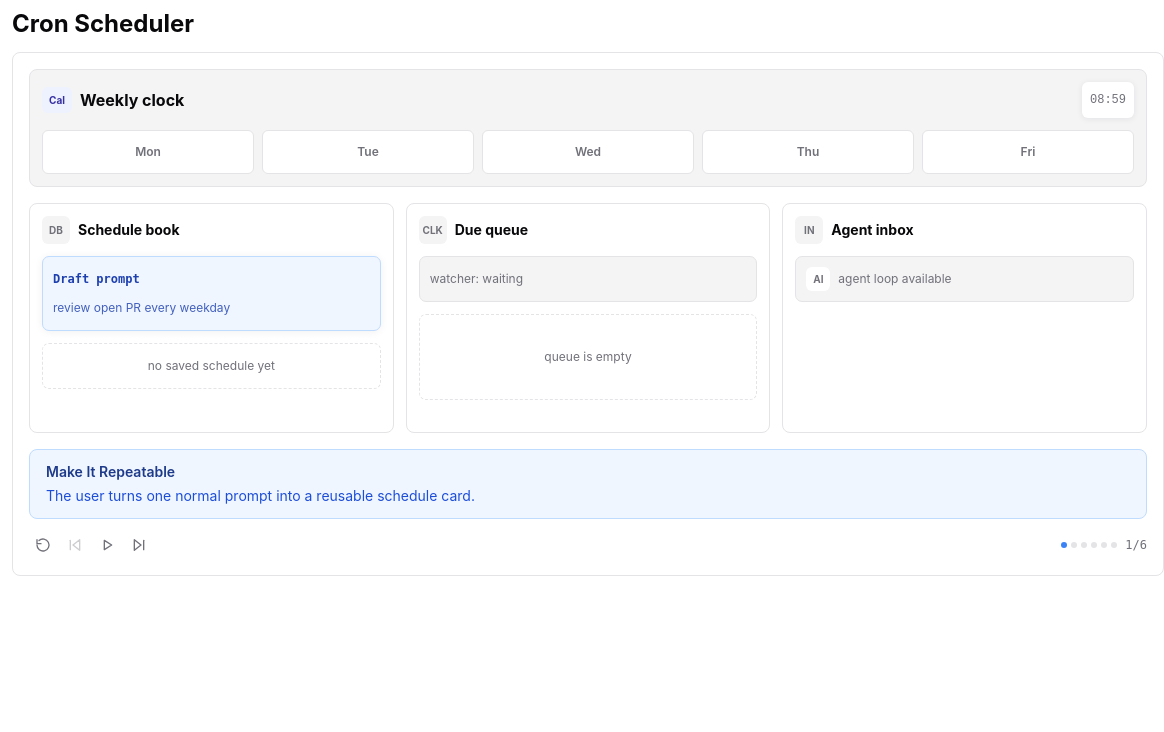
S14CronScheduler › renders the cron schedule flow from schedule book to drained queue
The width and height of the screenshot is (1164, 732).
Click the button titled "Next step": click(139, 545) [125, 531, 153, 559]
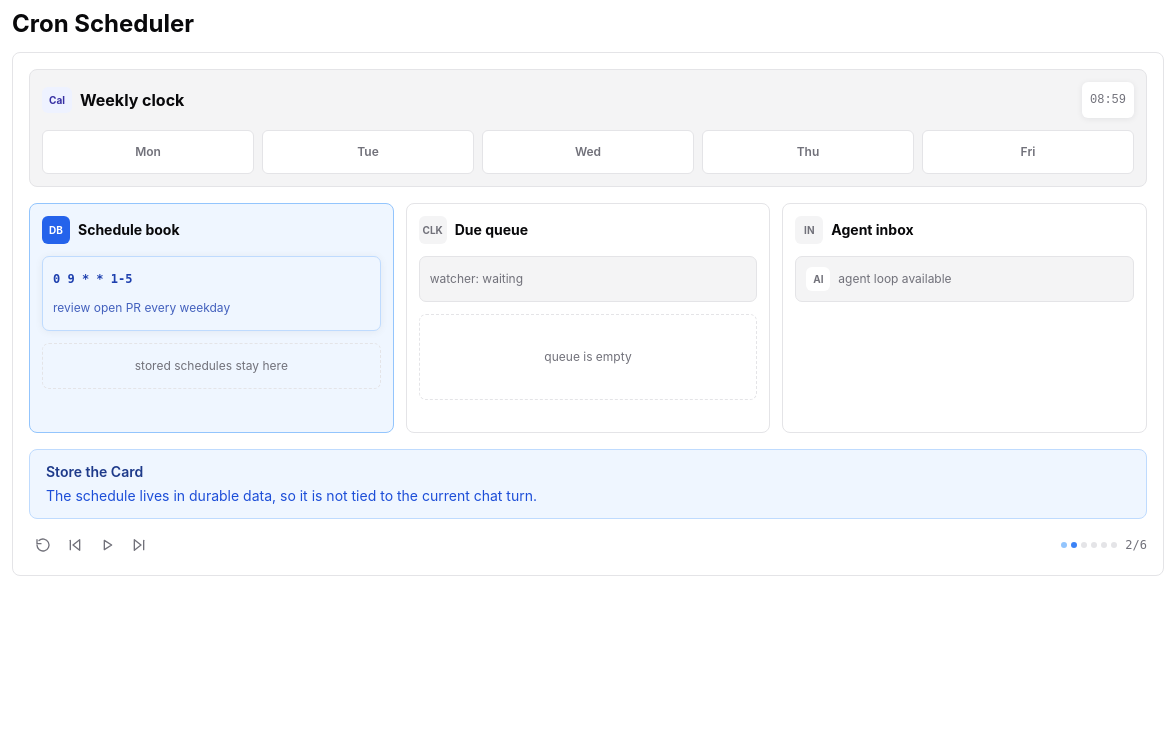
Expected: the text "Store the Card" is shown, [46, 463, 143, 480]
Expected: the text "0 9 * * 1-5" is shown, [53, 272, 132, 286]
Expected: the text "stored schedules stay here" is shown, [42, 343, 381, 389]
Click the button titled "Next step": click(139, 545) [125, 531, 153, 559]
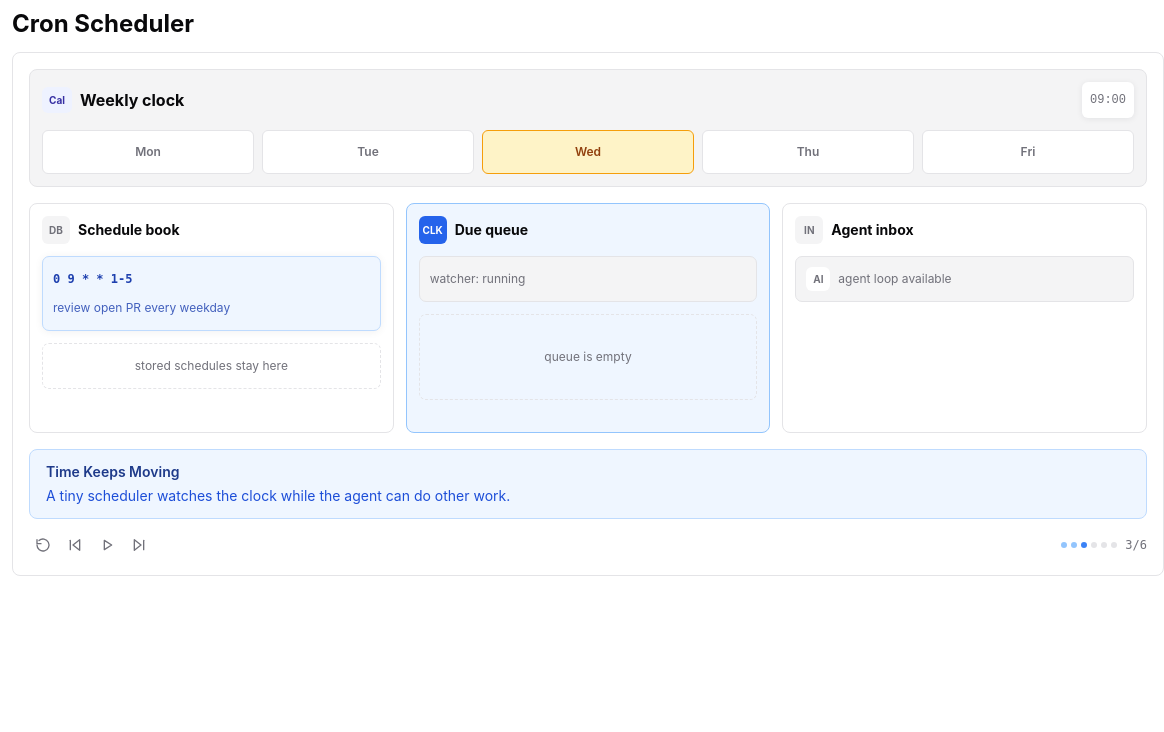
Expected: the text "Time Keeps Moving" is shown, [46, 463, 180, 480]
Expected: the text "09:00" is shown, [1082, 82, 1134, 118]
Expected: the text "watcher: running" is shown, [419, 256, 757, 302]
Click the button titled "Next step": click(139, 545) [125, 531, 153, 559]
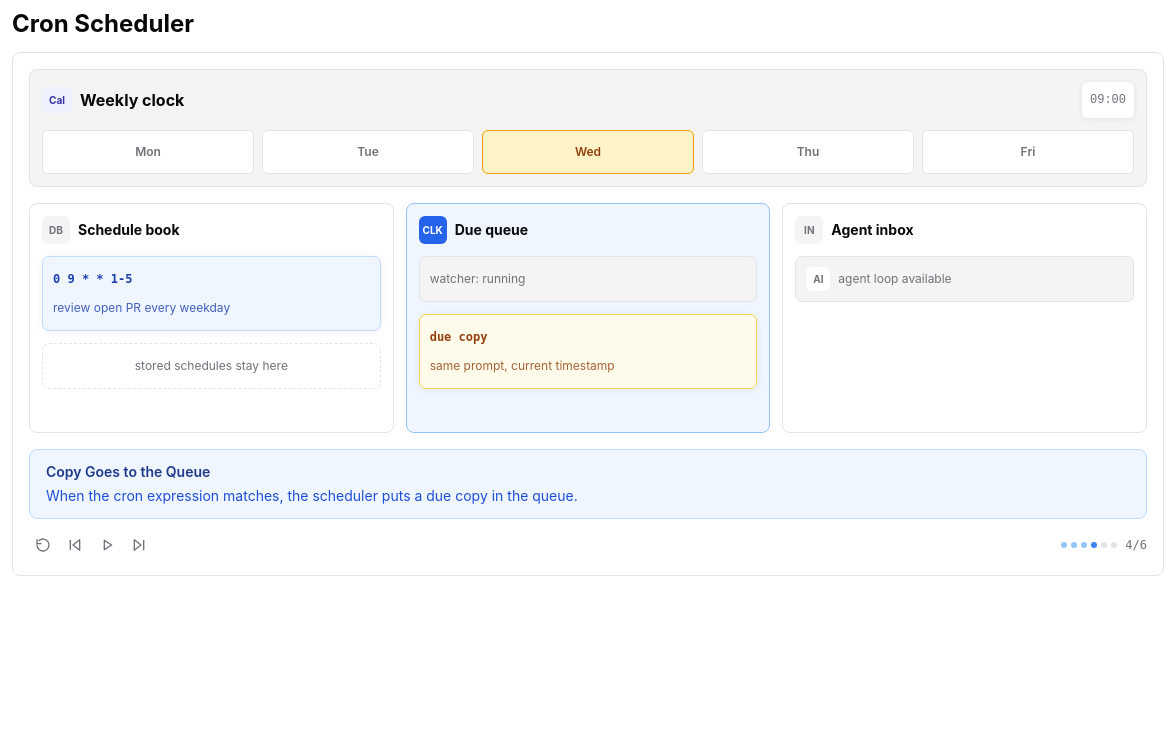
Expected: the text "Copy Goes to the Queue" is shown, [46, 463, 210, 480]
Expected: the text "due copy" is shown, [430, 330, 488, 344]
Expected: the text "same prompt, current timestamp" is shown, [430, 358, 615, 373]
Click the button titled "Next step": click(139, 545) [125, 531, 153, 559]
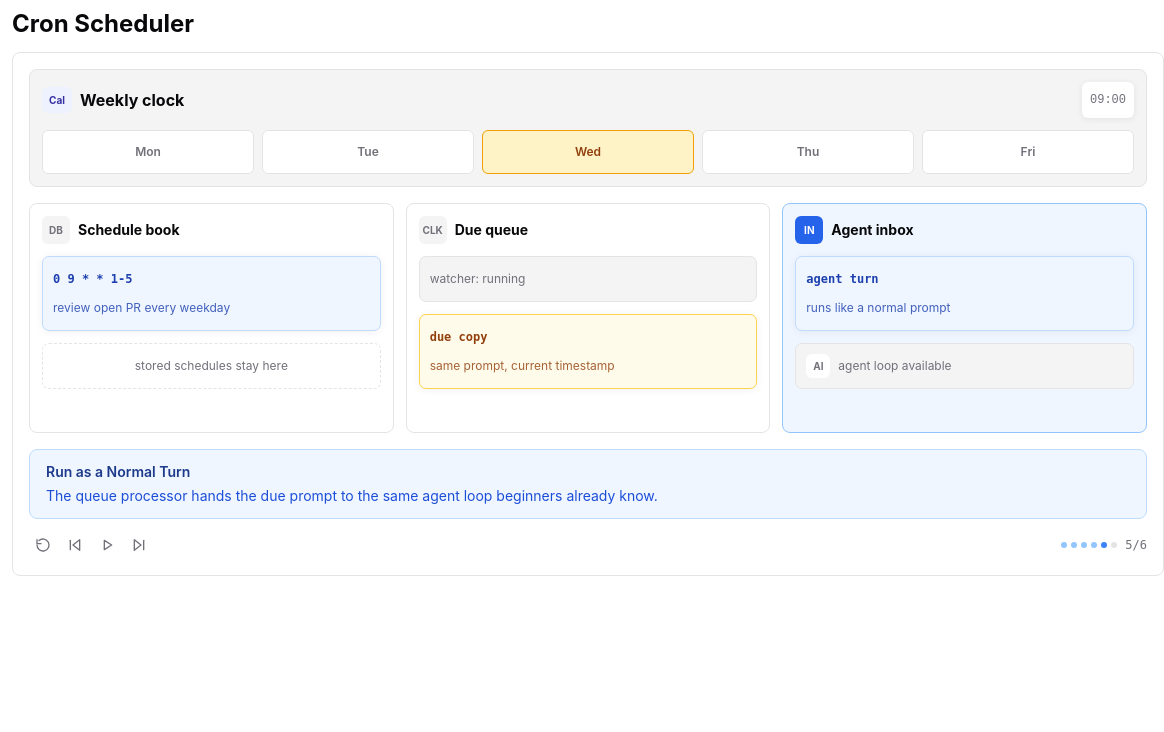
Expected: the text "Run as a Normal Turn" is shown, [46, 463, 190, 480]
Expected: the text "agent turn" is shown, [806, 272, 879, 286]
Expected: the text "runs like a normal prompt" is shown, [806, 300, 950, 315]
Click the button titled "Next step": click(139, 545) [125, 531, 153, 559]
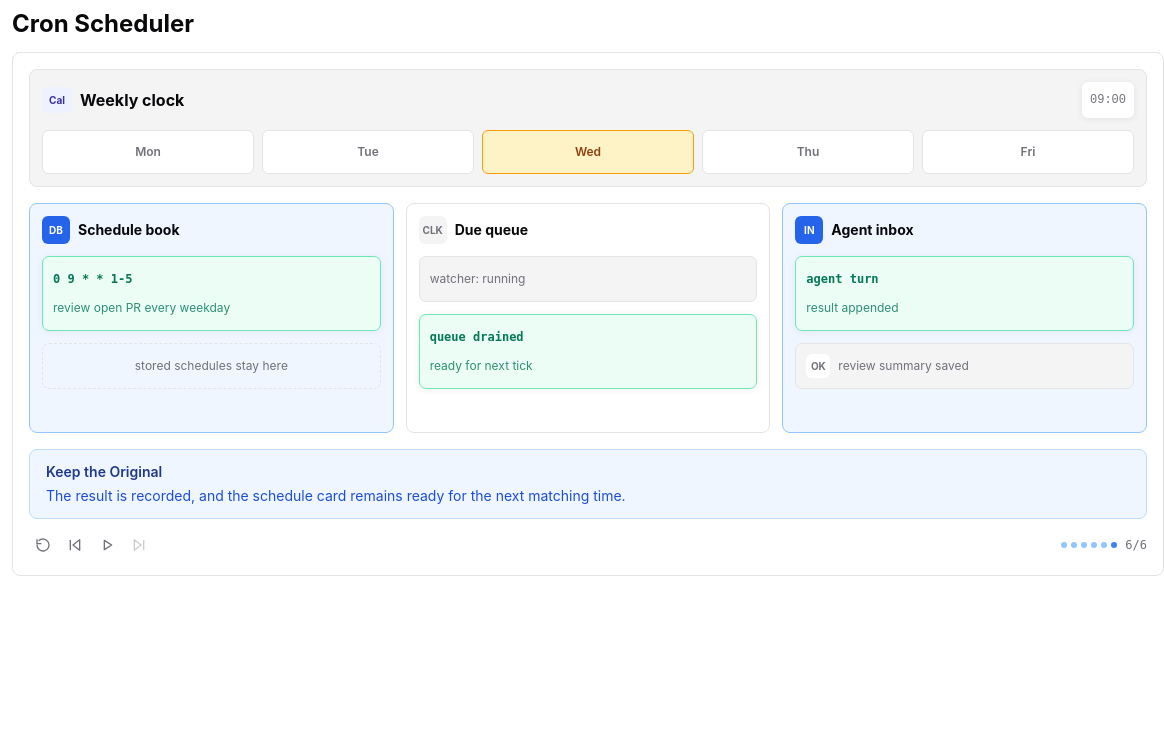
Expected: the text "Keep the Original" is shown, [46, 463, 162, 480]
Expected: the text "queue drained" is shown, [430, 330, 524, 344]
Expected: the text "result appended" is shown, [806, 300, 899, 315]
